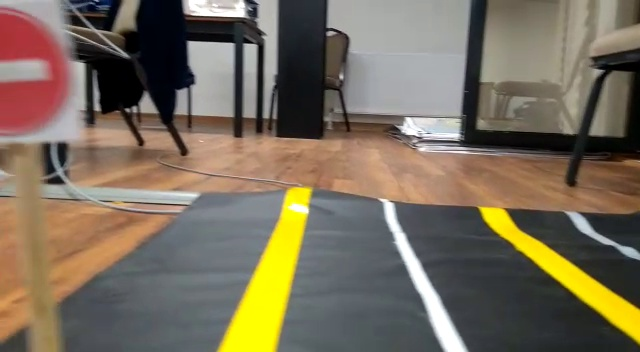girisi_olmayan_yol: (1, 1, 72, 146)
